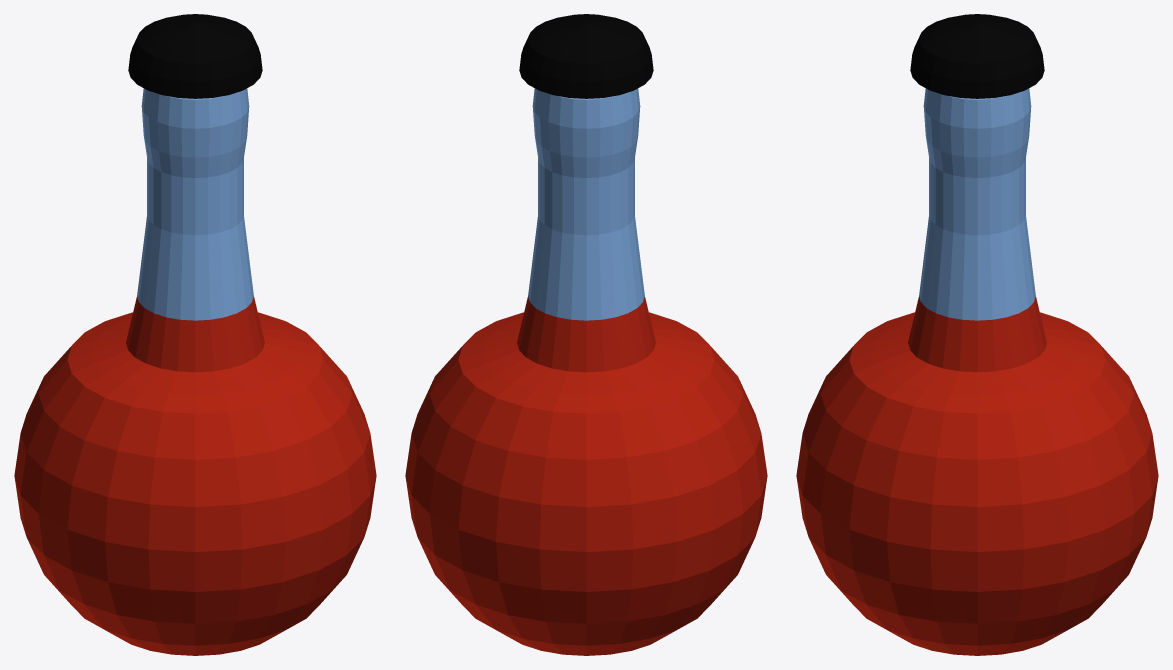
Rendered from potion.fbx.
3 views of the same model, side by side, from view 1: azimuth 30°, elevation 25°; view 2: azimuth 150°, elevation 25°; view 3: azimuth 270°, elevation 25° (orthographic).
Parts seen in each view (by area): view 1: Sphere; view 2: Sphere; view 3: Sphere.
Part boxes in pixels (x1,y1,x2,y2): Sphere: [14, 14, 376, 655]; Sphere: [405, 14, 767, 655]; Sphere: [796, 14, 1158, 655].
Size of the model in its own units: 74.71 by 141 by 74.71.
